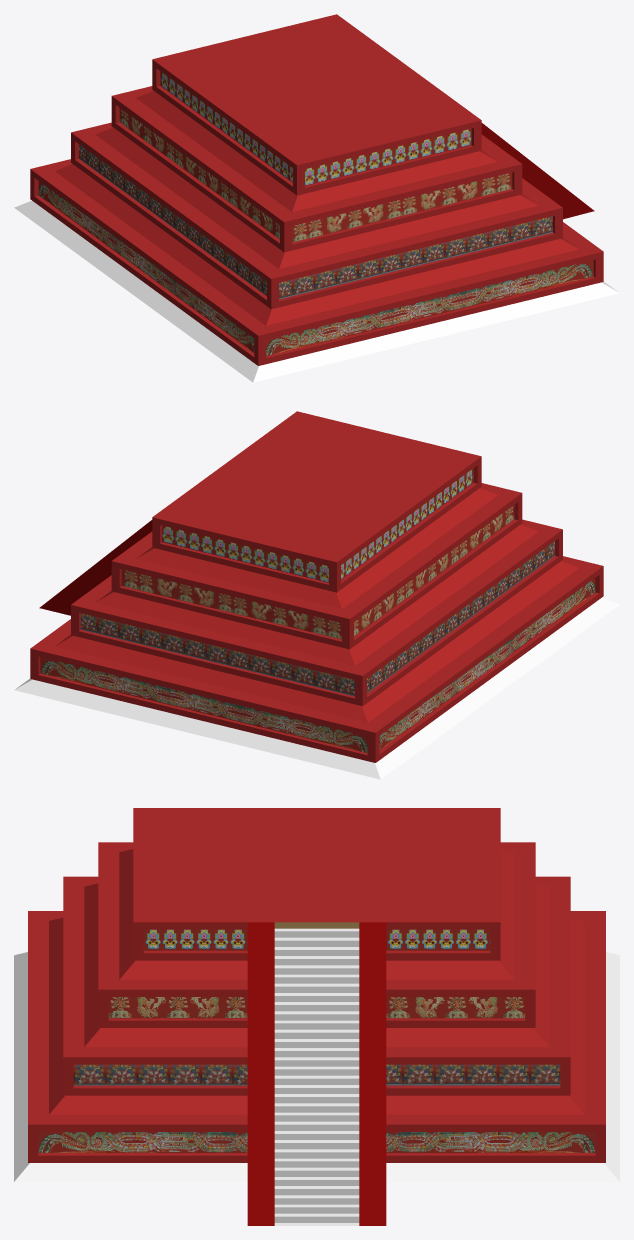
3 views of the same model, one above another, from view 1: azimuth 30°, elevation 25°; view 2: azimuth 150°, elevation 25°; view 3: azimuth 270°, elevation 25° (orthographic). The views are drawn at different scales.
Visible parts, largest first — view 1: Group1, Group2; view 2: Group1, Group2; view 3: Group1, Group2.
Boxes of the visible parts, left/top/right/bottom form: Group1: left=14, top=14, right=619, bottom=382; Group2: left=481, top=123, right=594, bottom=219; Group1: left=14, top=411, right=619, bottom=779; Group2: left=39, top=520, right=152, bottom=615; Group1: left=14, top=808, right=619, bottom=1182; Group2: left=247, top=922, right=386, bottom=1225.
Bounding box in the file's own units: 59.94 × 21.76 × 57.21.
Materials: 12 (8 with a texture image).
